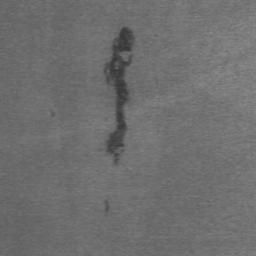Iron scale compression: (106, 27, 135, 167)
